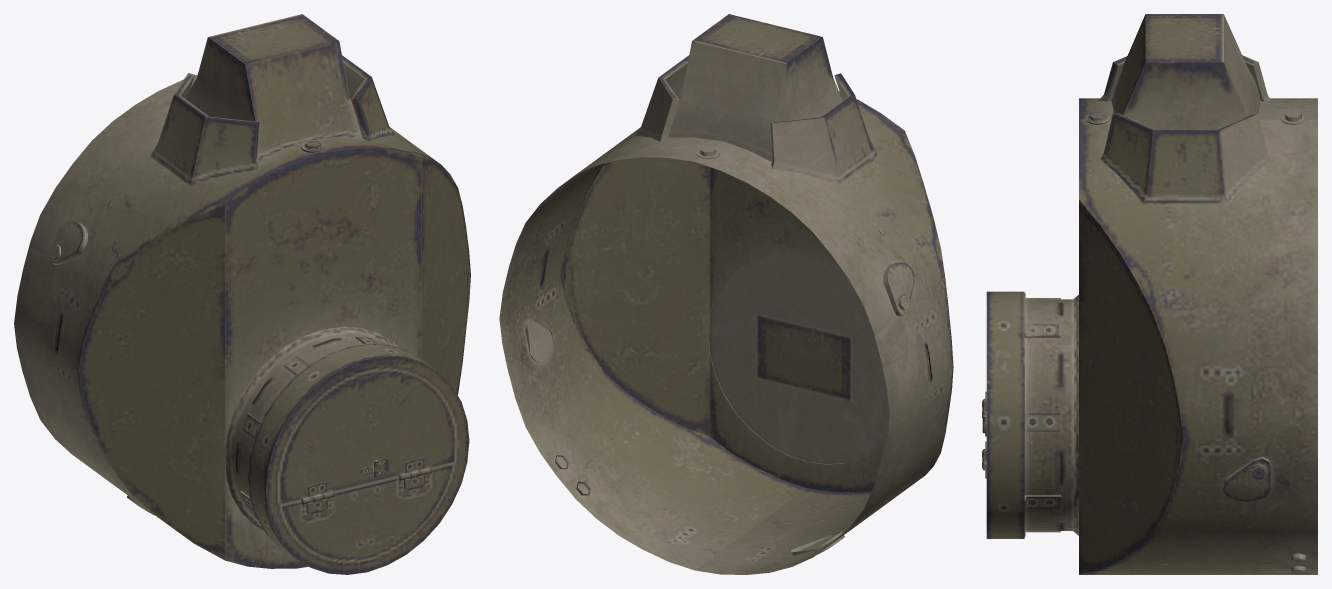
File: Turret_01.glb
3 renders of one model, left to right at view 1: azimuth 30°, elevation 25°; view 2: azimuth 150°, elevation 25°; view 3: azimuth 270°, elevation 25°, orthographic. The views are drawn at different scales.
Parts seen in each view (by area): view 1: set_0_group_0; view 2: set_0_group_0; view 3: set_0_group_0.
Part boxes in pixels (x1,y1,x2,y2): set_0_group_0: (14,14,470,574); set_0_group_0: (499,14,953,574); set_0_group_0: (982,14,1317,574).
Bounding box in the file's own units: 1.35 × 1.59 × 0.9406.
1 material, 1 textured.
